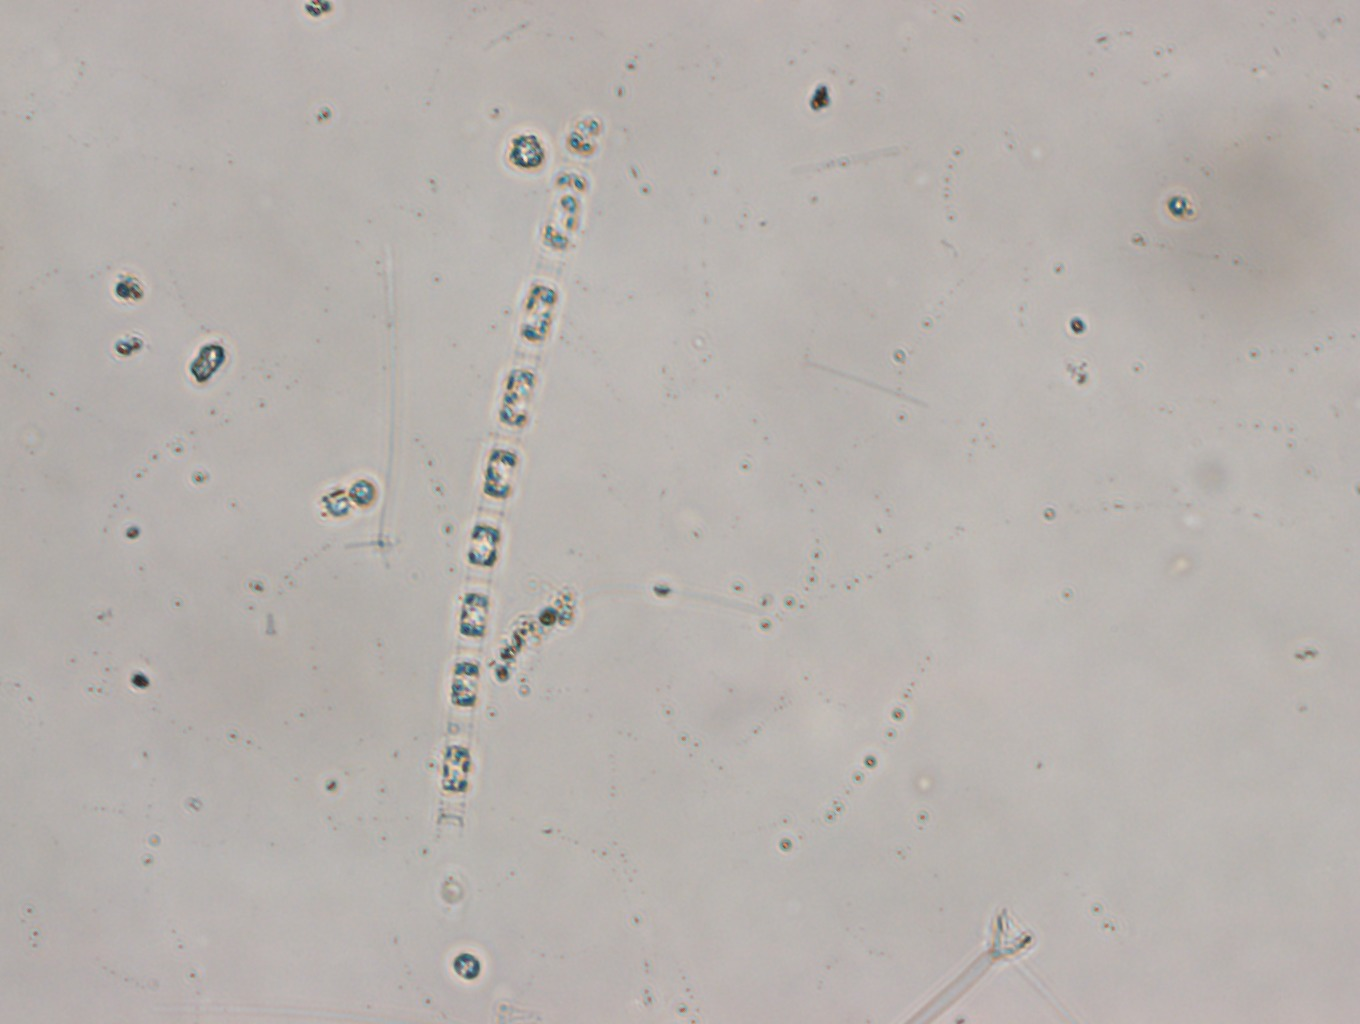skeletonema: (436, 115, 600, 840)
